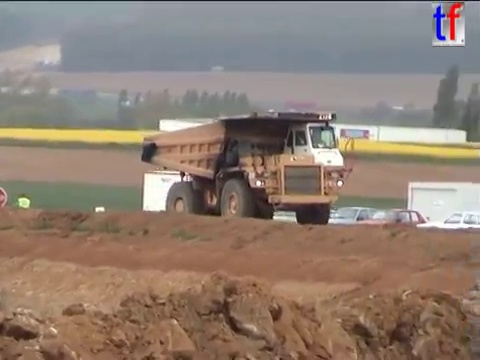truck: (139, 108, 356, 236)
worker: (14, 191, 32, 226)
